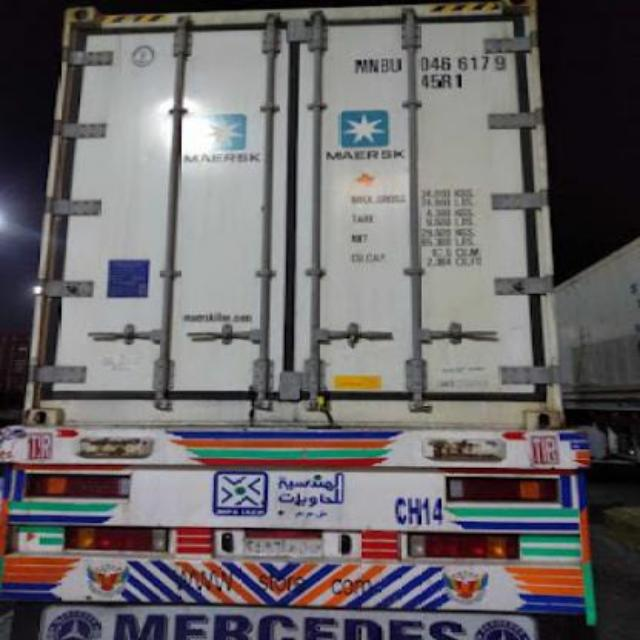0: (418, 55, 428, 71)
1: (468, 56, 480, 72)
4: (428, 56, 442, 72)
6: (440, 56, 452, 72), (456, 56, 468, 72)
7: (478, 55, 492, 71)
9: (494, 56, 506, 72)
B: (380, 57, 390, 75)
M: (354, 59, 368, 75)
N: (368, 57, 380, 73)
U: (392, 56, 402, 74)
